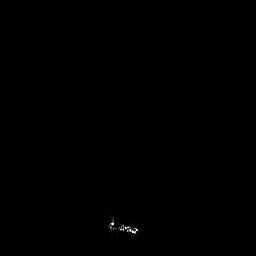ship: (108, 217, 140, 236)
